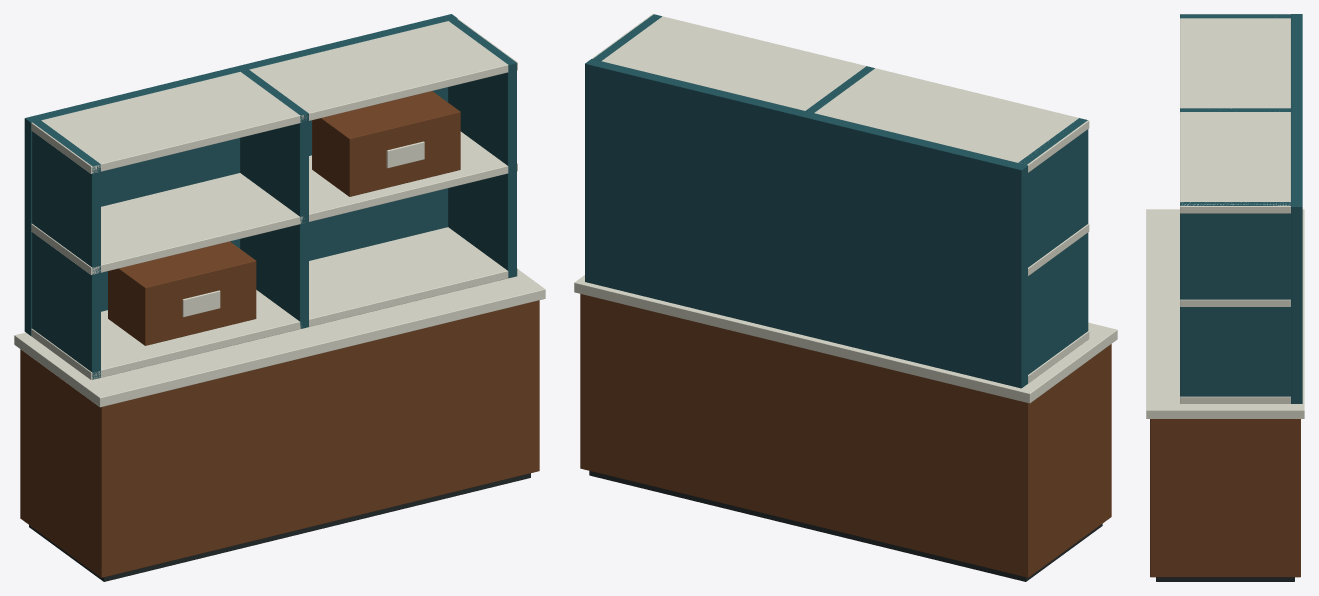
The model's file is parcel-collection-counter.glb.
The picture shows the model from 3 angles, left to right: view 1: azimuth 30°, elevation 25°; view 2: azimuth 150°, elevation 25°; view 3: azimuth 270°, elevation 25°; orthographic projection. The views are drawn at different scales.
Visible parts, largest first — view 1: Counter_Body, Shelf.002, Shelf, Shelf.001, Rear_Back, Worktop, Cubby_Divider.001, Parcel.001, Parcel, Cubby_Divider, Cubby_Divider.002, Counter_Base (+2 smaller); view 2: Rear_Back, Counter_Body, Shelf.002, Cubby_Divider.001, Worktop, Counter_Base; view 3: Counter_Body, Shelf.002, Cubby_Divider, Worktop, Rear_Back, Shelf, Shelf.001, Counter_Base, Cubby_Divider.001, Cubby_Divider.002.
Part boxes in pixels (x1,y1,x2,y2): Counter_Body: (20, 300, 539, 577); Shelf.002: (31, 18, 517, 173); Shelf: (31, 227, 517, 379); Shelf.001: (31, 131, 517, 275); Rear_Back: (24, 14, 457, 335); Worktop: (14, 269, 545, 407); Cubby_Divider.001: (32, 120, 100, 379); Parcel.001: (312, 91, 460, 196); Parcel: (108, 241, 256, 345); Cubby_Divider: (448, 19, 516, 278); Cubby_Divider.002: (240, 69, 308, 328); Counter_Base: (29, 473, 530, 581); Rear_Back: (585, 59, 1027, 388); Counter_Body: (580, 294, 1111, 577); Shelf.002: (592, 14, 1089, 172); Cubby_Divider.001: (1018, 118, 1088, 374); Worktop: (574, 275, 1117, 403); Counter_Base: (589, 471, 1102, 581); Counter_Body: (1150, 419, 1300, 577); Shelf.002: (1180, 14, 1290, 213); Cubby_Divider: (1180, 202, 1290, 396); Worktop: (1146, 209, 1304, 418); Rear_Back: (1291, 14, 1302, 403); Shelf: (1180, 396, 1290, 403); Shelf.001: (1180, 299, 1290, 306); Counter_Base: (1156, 577, 1294, 581); Cubby_Divider.001: (1180, 14, 1290, 18); Cubby_Divider.002: (1180, 108, 1290, 111).
Bounding box in the file's own units: 2.4 × 2.09 × 0.8.
